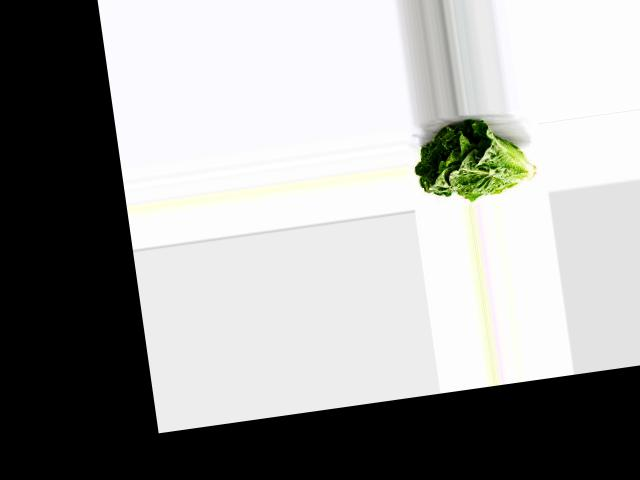lettuce: (410, 110, 537, 209)
